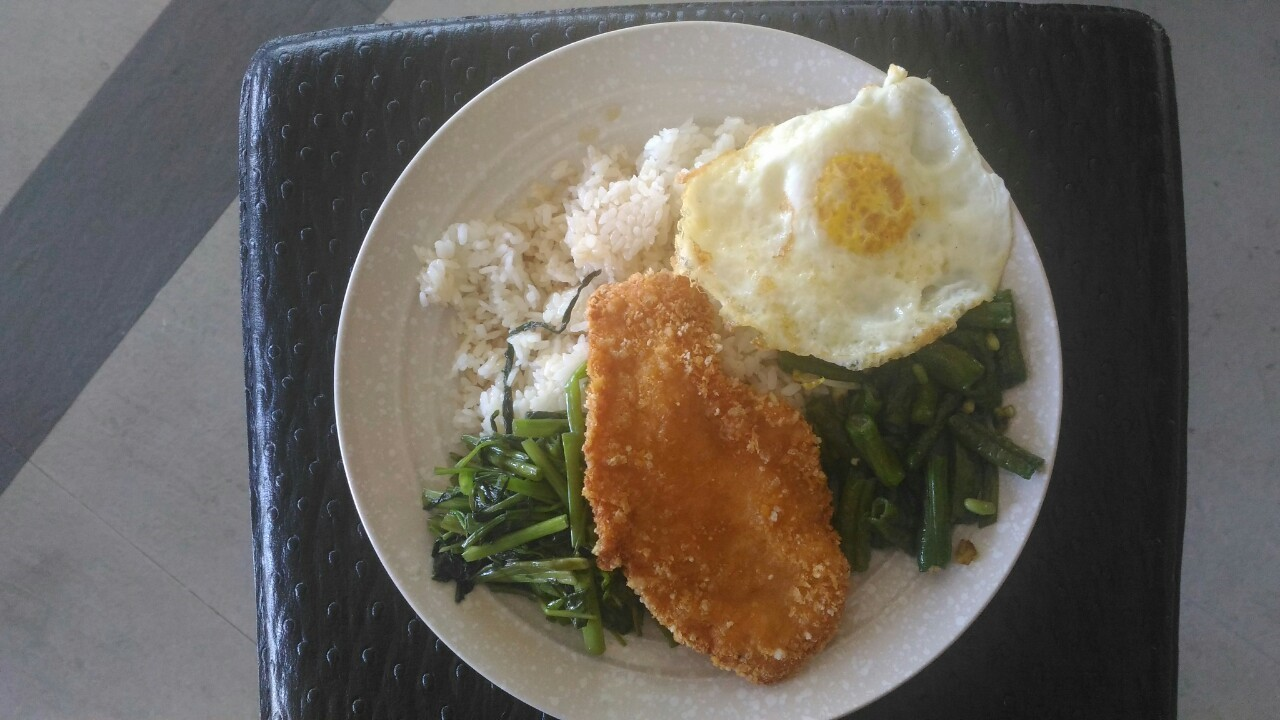fried_chicken: (587, 280, 845, 685)
fried_eggs: (679, 78, 1011, 368)
rice: (436, 168, 677, 364)
water_spinach: (431, 406, 590, 633)
